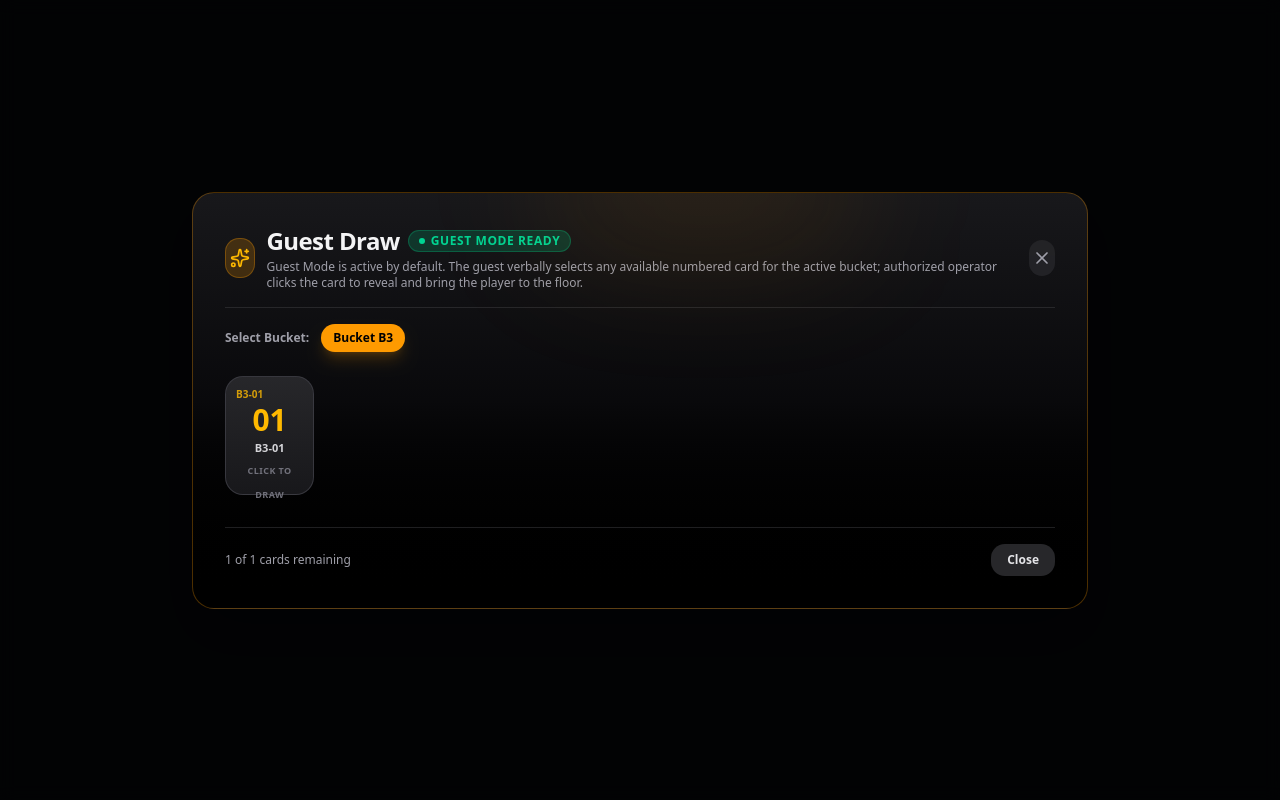
Scenario: Phase 5.2 — Live Console Instant UI & State Machine Verification › 5. GuestDrawDialog — Instant 3D Flip & Reveal Hold Invariants › rolls back 3D flip when server action fails
This screenshot has width=1280, height=800.
What coordinates should you click on to do the following:
click the button "B3-01 01 B3-01 CLICK TO DRAW"
I would click on:
 (270, 435)
Its box is [225,376,314,494].
Wait 2100 ms
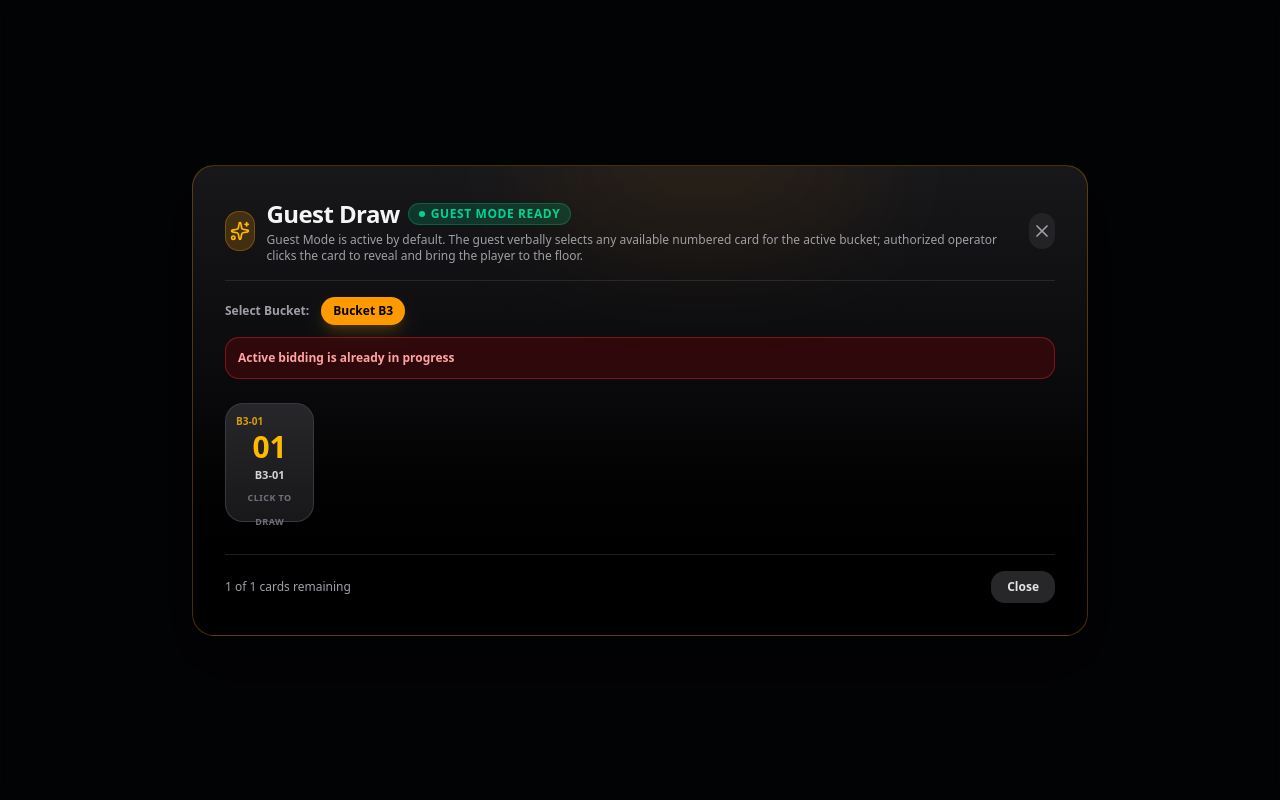
expect the text "Guest Player One" is shown: met, box [241,492,298,506]
expect the text "Active bidding is already in progress" is shown: met, box [225,336,1055,378]
